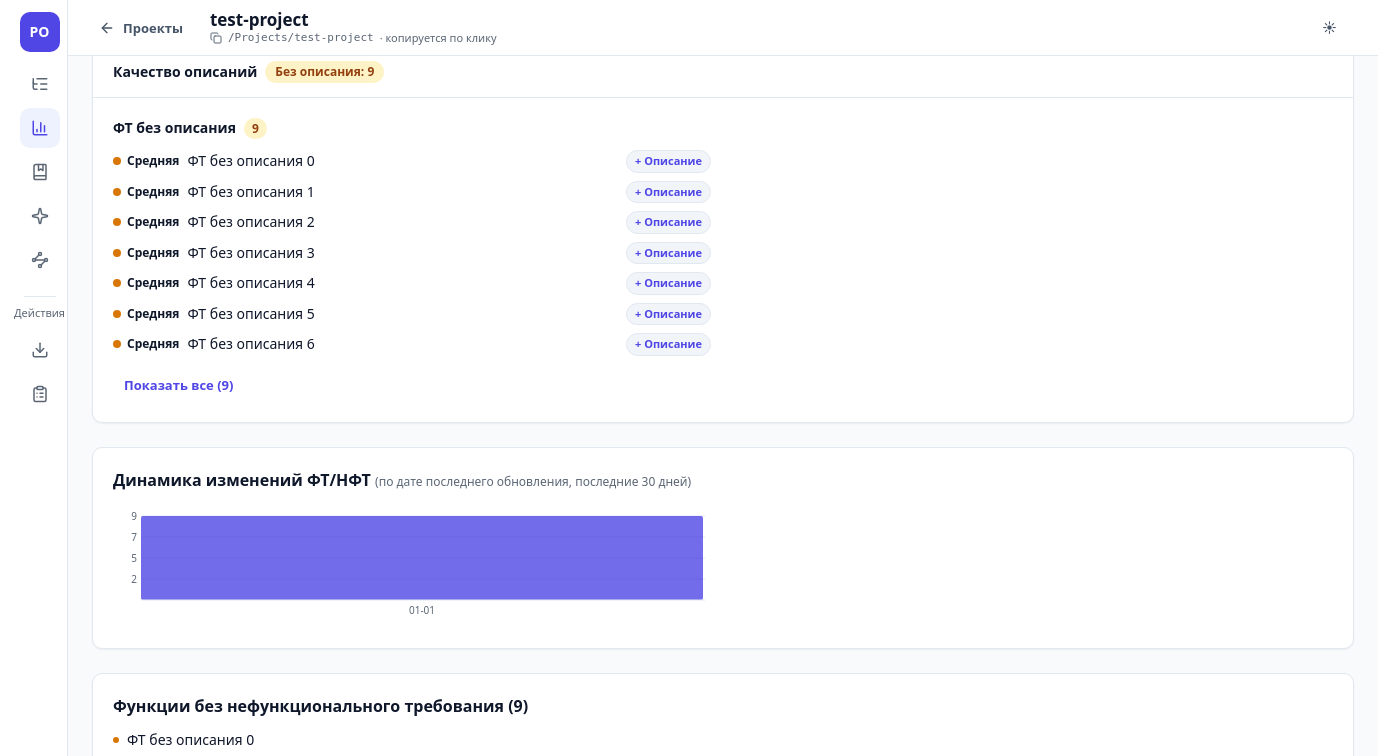
Dashboard (T-513 / T-514) › T-514 — FT without description section › T6 §2.19.3: список «без описания» ограничен 7 позициями, «Показать все (N)» раскрывает остальные
(page scrolled)
Click the button with test id "dash-no-desc-ft-show-all" at (179, 384), box [113, 368, 244, 402]
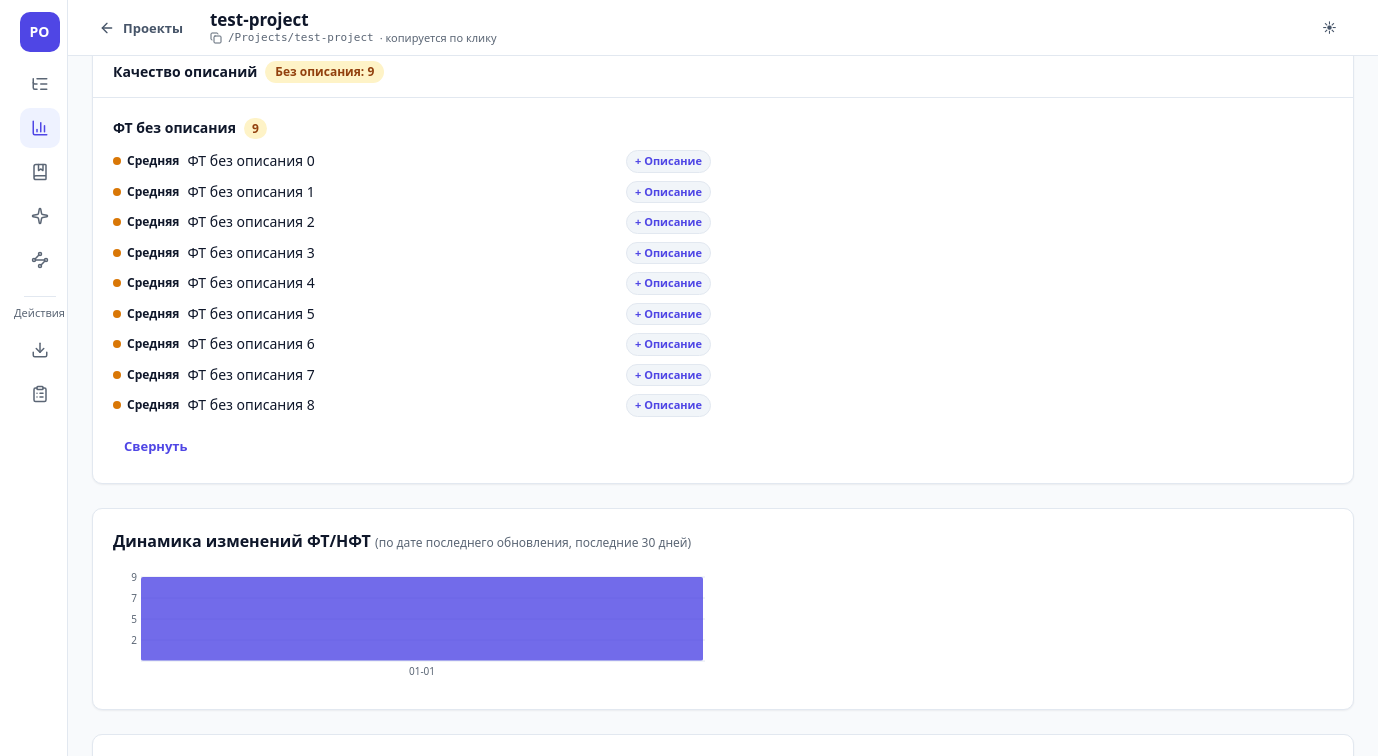
Check: the text "ФТ без описания 8" is shown, box [188, 395, 315, 414]
Check: the button with test id "dash-no-desc-ft-show-all" reads "Свернуть", box [113, 428, 198, 462]
